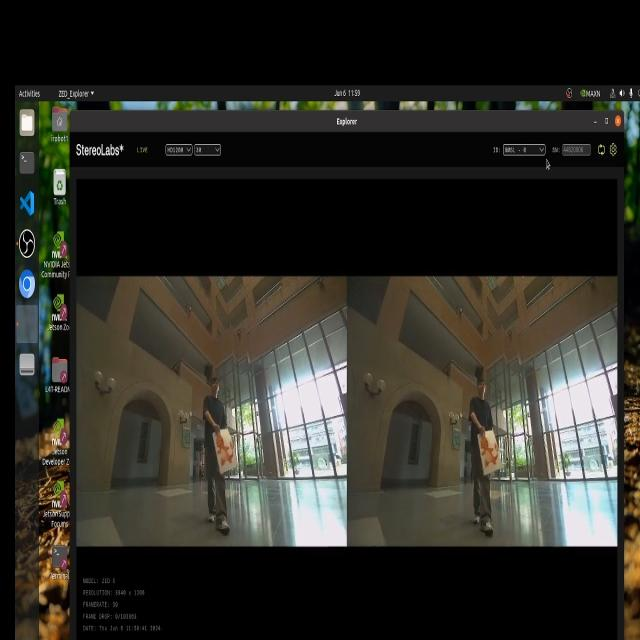red: (477, 434, 505, 474), (216, 429, 236, 476)
